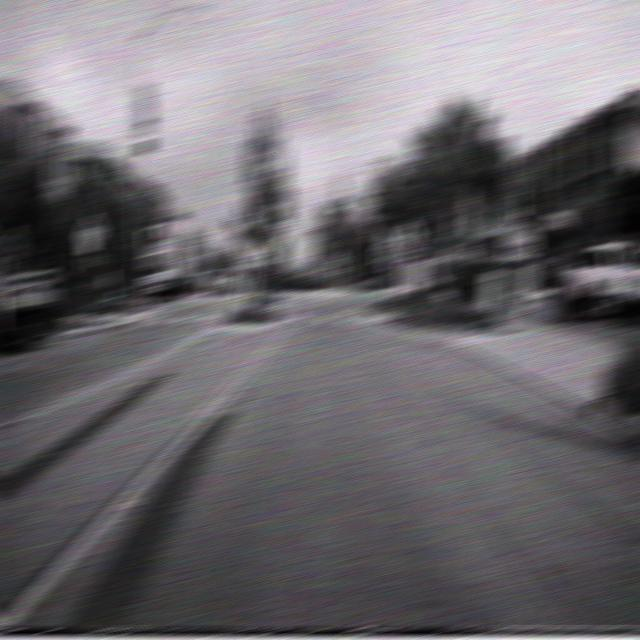pedestrianCrossing: (396, 216, 422, 256)
yield: (264, 200, 284, 224)
